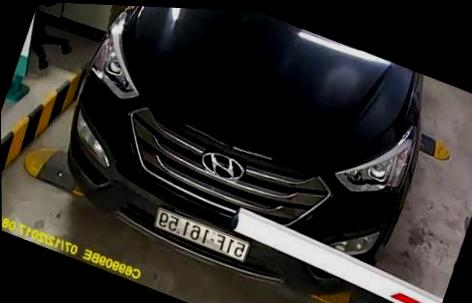License_Plate: (147, 204, 262, 271)
